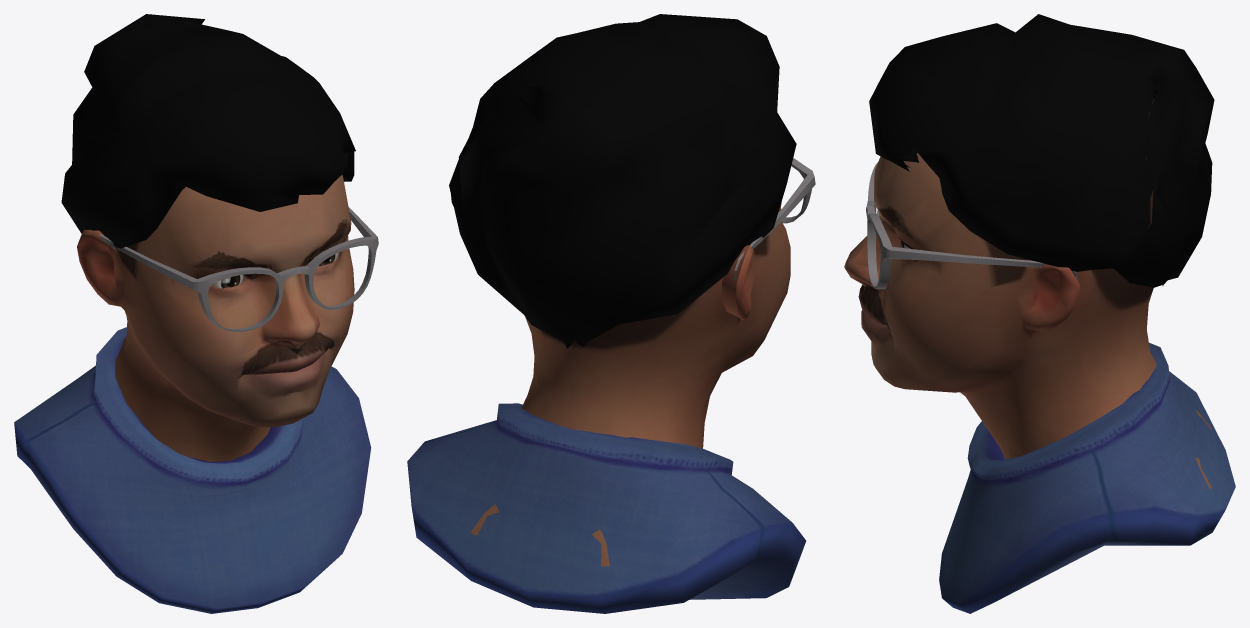
The picture shows the model from 3 angles, left to right: view 1: azimuth 30°, elevation 25°; view 2: azimuth 150°, elevation 25°; view 3: azimuth 270°, elevation 25°; orthographic projection. The views are drawn at different scales.
Visible parts, largest first — view 1: Wolf3D_Shirt, Wolf3D_Head, Wolf3D_Hair, Wolf3D_Glasses; view 2: Wolf3D_Hair, Wolf3D_Shirt, Wolf3D_Head, Wolf3D_Glasses; view 3: Wolf3D_Hair, Wolf3D_Head, Wolf3D_Shirt, Wolf3D_Glasses.
Part boxes in pixels (box(x1,y1,x2,y2)): Wolf3D_Shirt: box(14, 327, 371, 613); Wolf3D_Head: box(77, 175, 354, 461); Wolf3D_Hair: box(61, 14, 355, 248); Wolf3D_Glasses: box(89, 207, 378, 331); Wolf3D_Hair: box(449, 14, 796, 348); Wolf3D_Shirt: box(407, 403, 806, 613); Wolf3D_Head: box(470, 202, 790, 566); Wolf3D_Glasses: box(734, 158, 815, 280); Wolf3D_Hair: box(869, 14, 1214, 287); Wolf3D_Head: box(844, 98, 1211, 489); Wolf3D_Shirt: box(939, 342, 1235, 613); Wolf3D_Glasses: box(866, 162, 1078, 289).
Size of the model in its own units: 0.2233 by 0.3647 by 0.2354.
5 materials, 4 textured.
